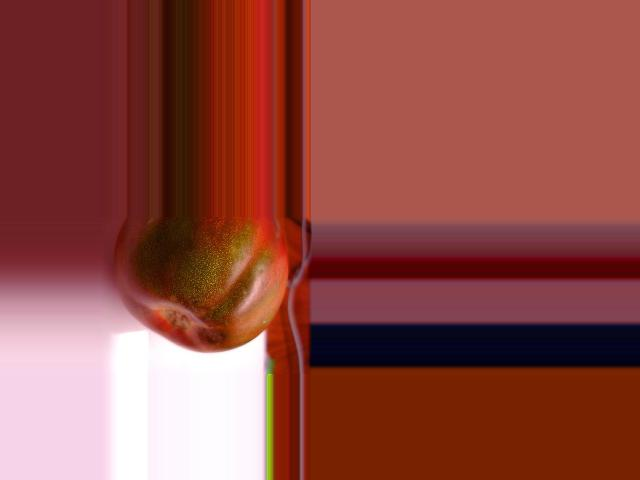tomato: (115, 216, 289, 352)
